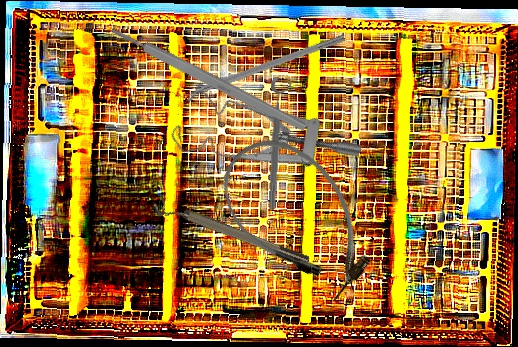Cannula: (201, 116, 395, 318)
Chopper: (168, 24, 346, 104)
Fixation Ring: (150, 192, 312, 275), (264, 76, 294, 210)
Scalpel Handle: (108, 23, 309, 134)
Speculum: (161, 50, 365, 234)
